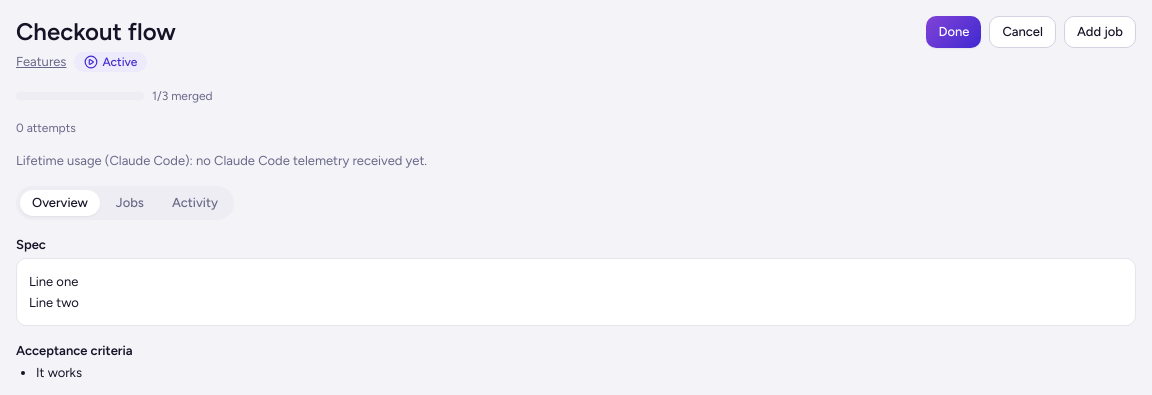
FeatureDetailView › shows the activity tab
What coordinates should you click on to do the following:
click the tab "Activity"
I would click on:
 (195, 203)
Its box is [160, 190, 230, 216].
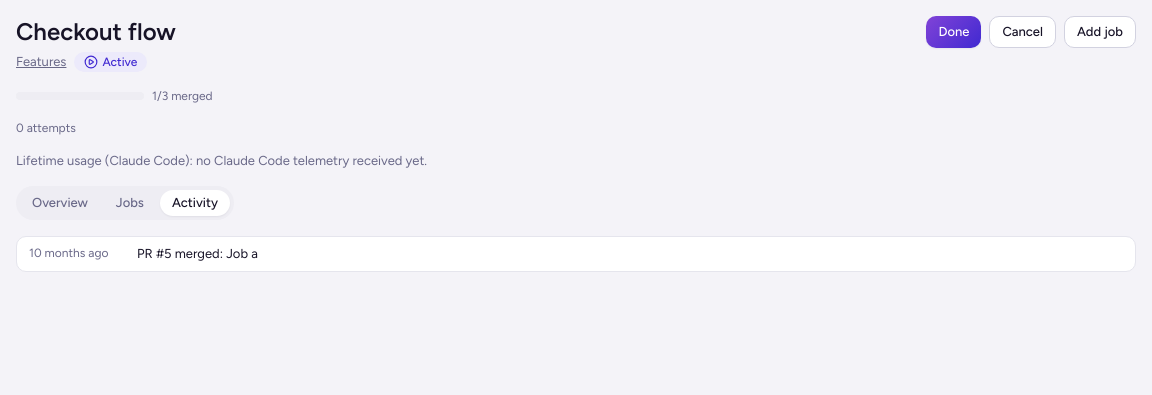
Expected: the text "PR #5 merged: Job a" is shown, [137, 245, 258, 263]
